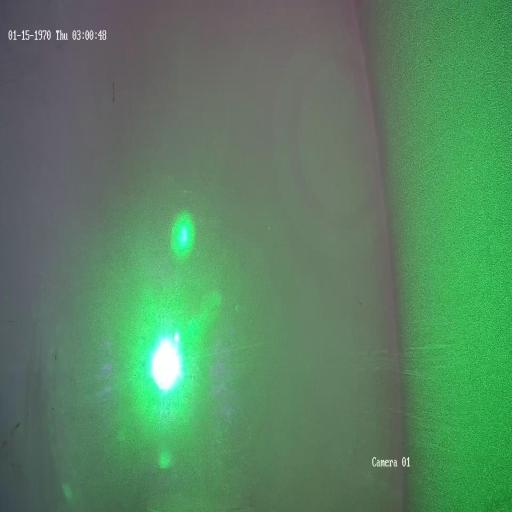laser: (141, 312, 189, 407)
